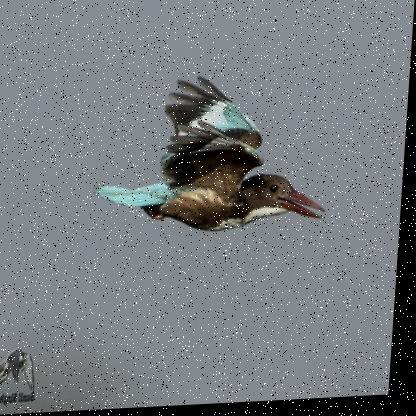Burung: (97, 71, 337, 238)
